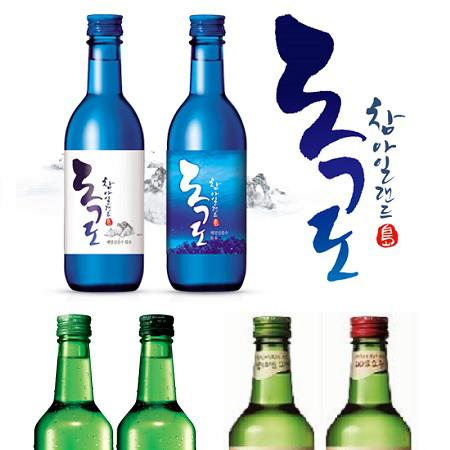soju: (62, 11, 255, 299), (32, 312, 414, 450)
